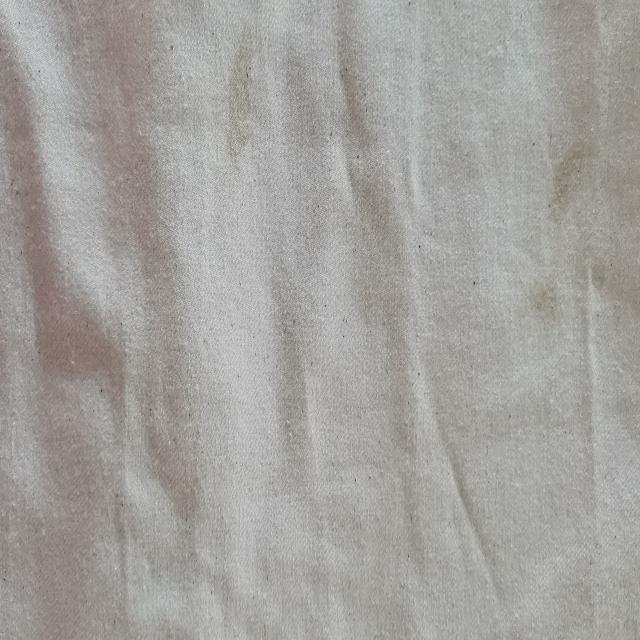taaaches: (217, 29, 264, 210), (546, 122, 590, 215), (520, 266, 564, 352), (588, 246, 612, 298)
